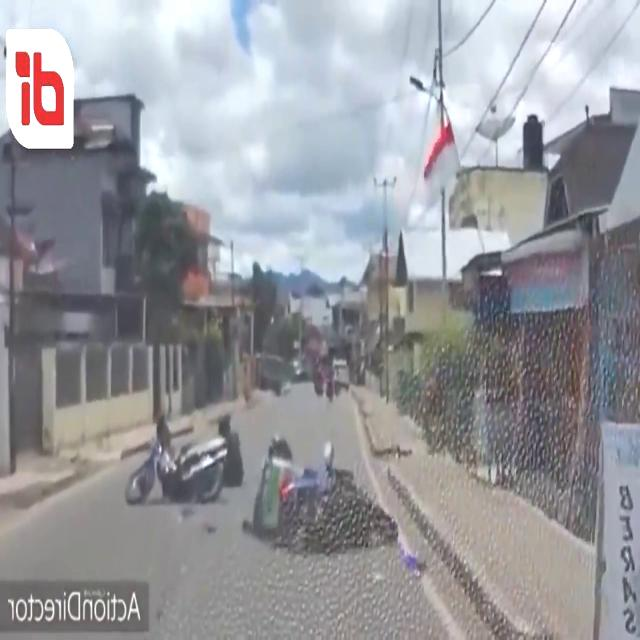accident: (124, 409, 400, 559)
non-accident: (308, 358, 352, 404)
